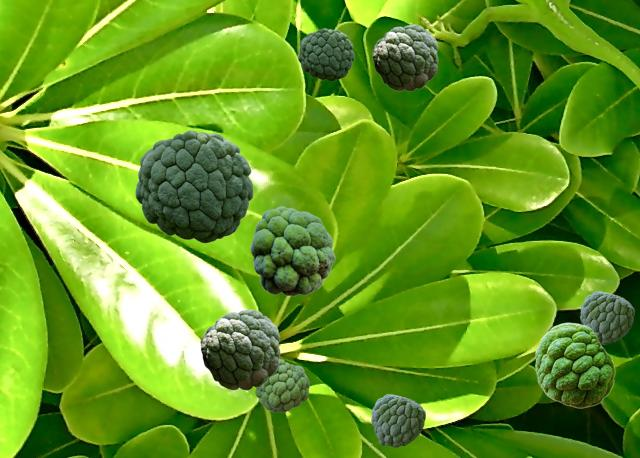atis: (135, 130, 252, 242), (250, 206, 334, 295), (535, 322, 614, 407), (200, 309, 279, 389), (372, 24, 437, 90), (298, 28, 353, 80), (254, 359, 308, 411), (580, 291, 633, 343), (371, 394, 424, 446)
